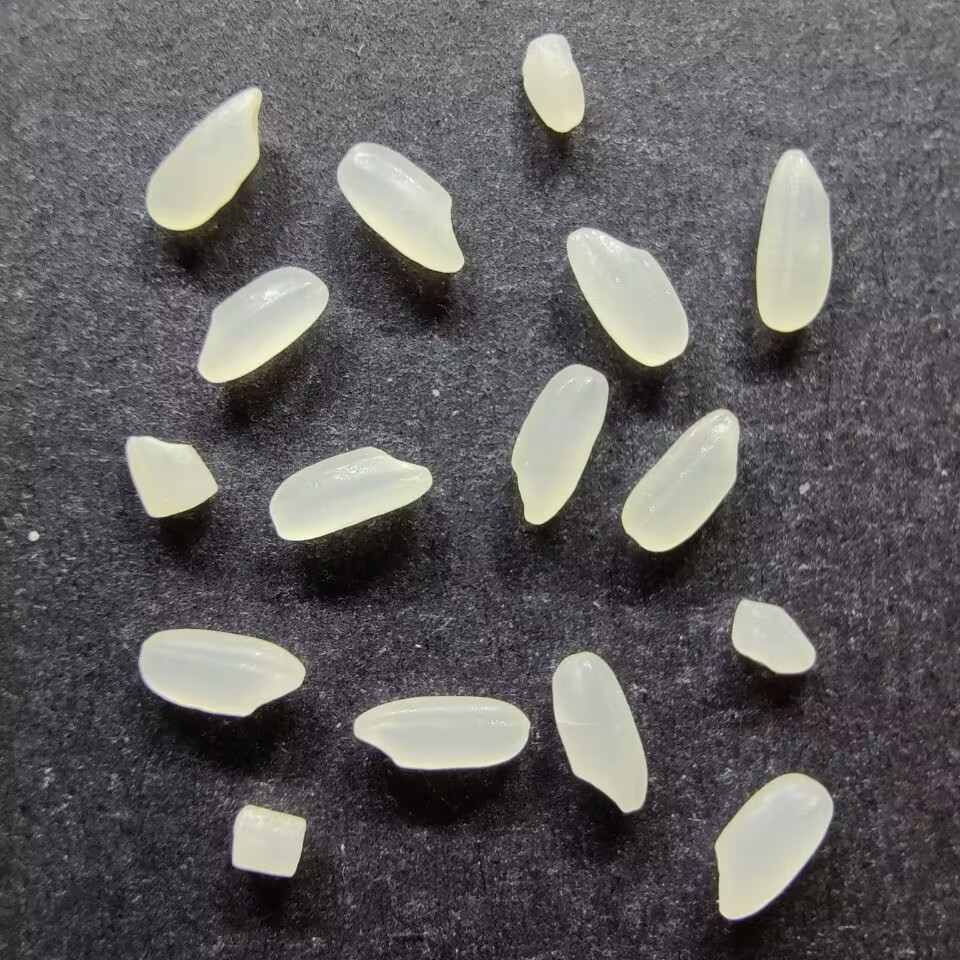broken: (125, 433, 221, 519), (729, 594, 819, 677), (520, 32, 586, 134), (229, 803, 308, 880)
rice: (711, 770, 834, 921), (143, 83, 264, 233), (563, 226, 691, 367), (619, 407, 742, 553), (335, 140, 465, 275), (508, 363, 609, 526), (549, 651, 649, 814), (267, 444, 433, 542), (195, 266, 329, 385), (137, 627, 306, 718), (753, 148, 833, 333), (351, 694, 530, 772)
